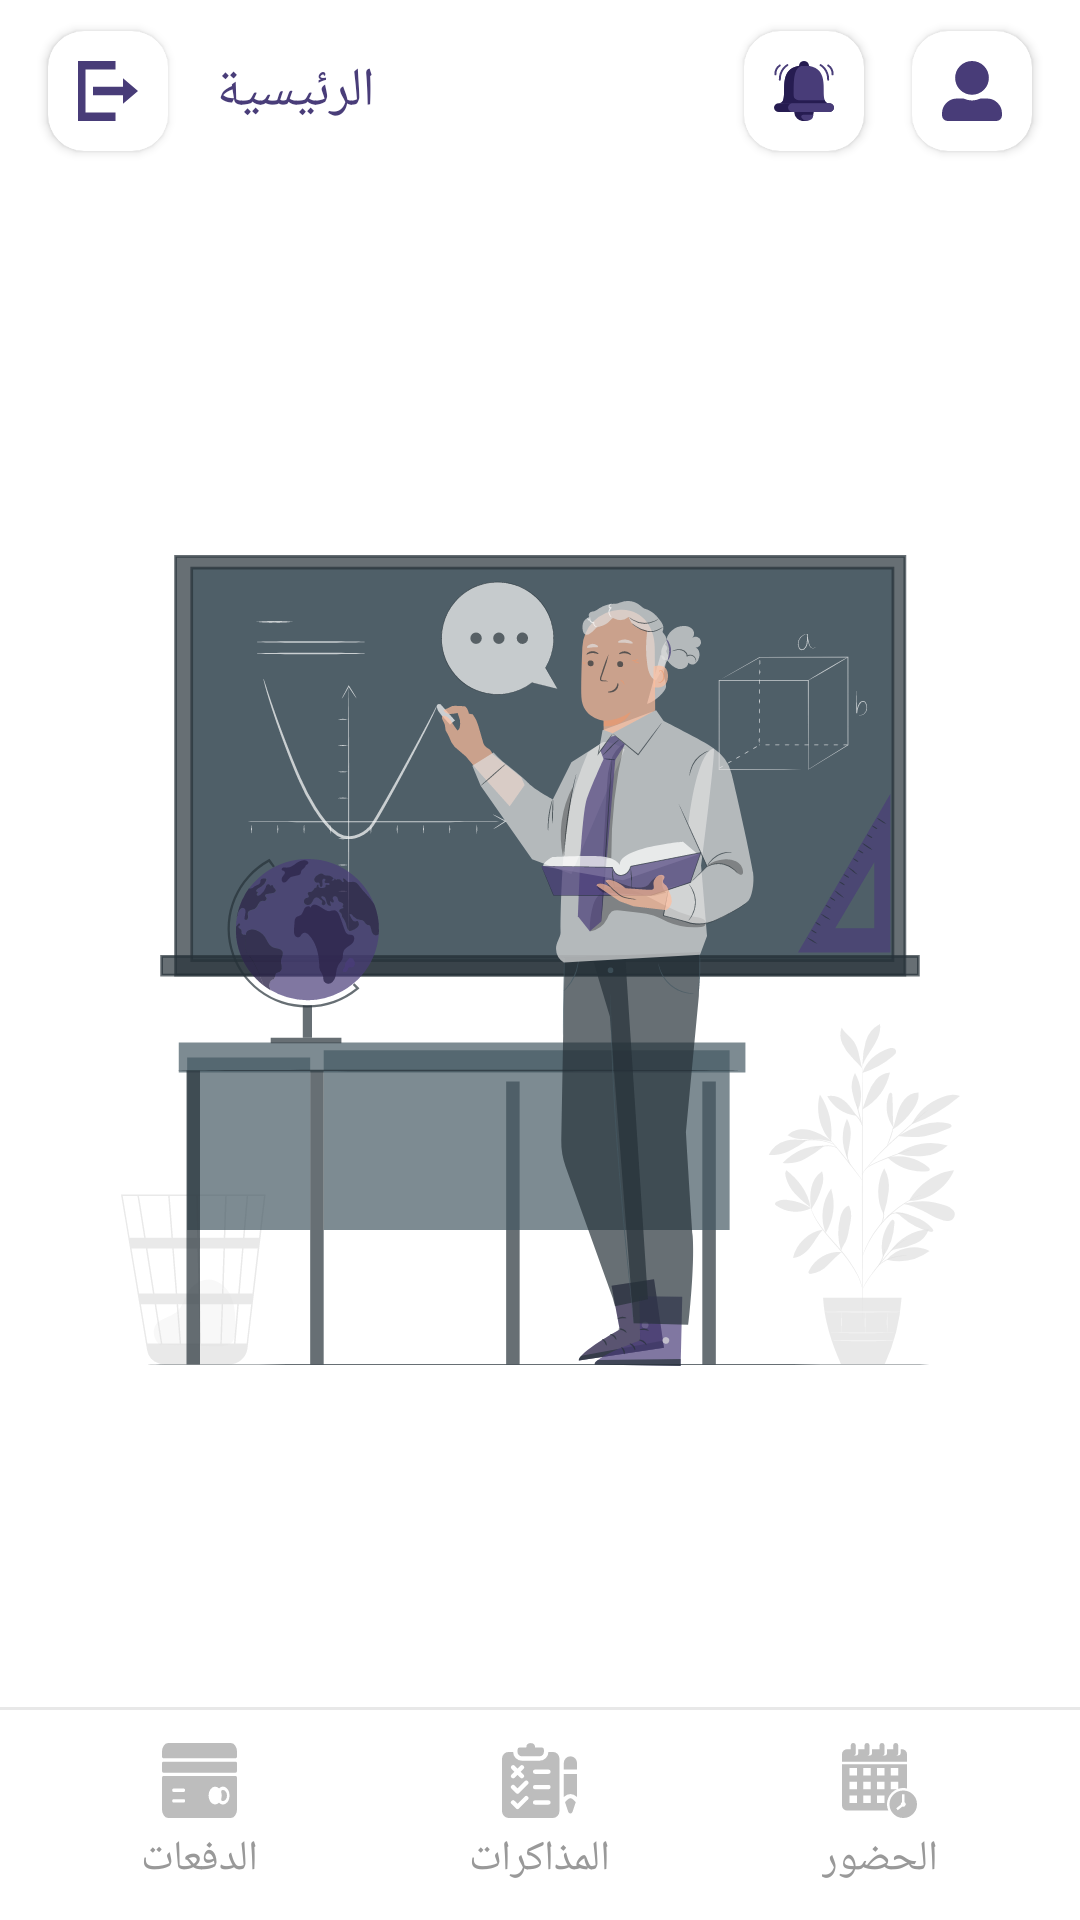

Point at icon controls on the screen. Image size 1080x1920, points as point (x, y).
calendar: point (879, 1780)
credit card: point (199, 1780)
notification: point (804, 91)
profile: point (972, 91)
